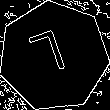L_S: (30, 27, 77, 86)
